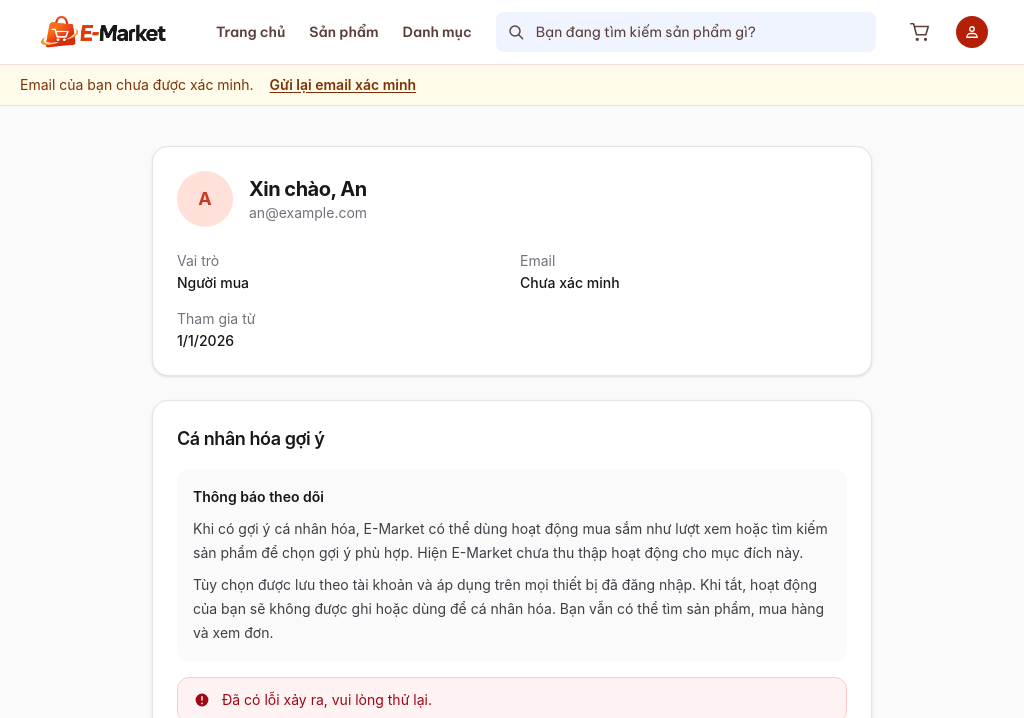
Test: Xác minh email › biểu ngữ nhắc xác minh và gửi lại email
Click the button "Gửi lại email xác minh" at [343, 85], box [270,75,416,95]
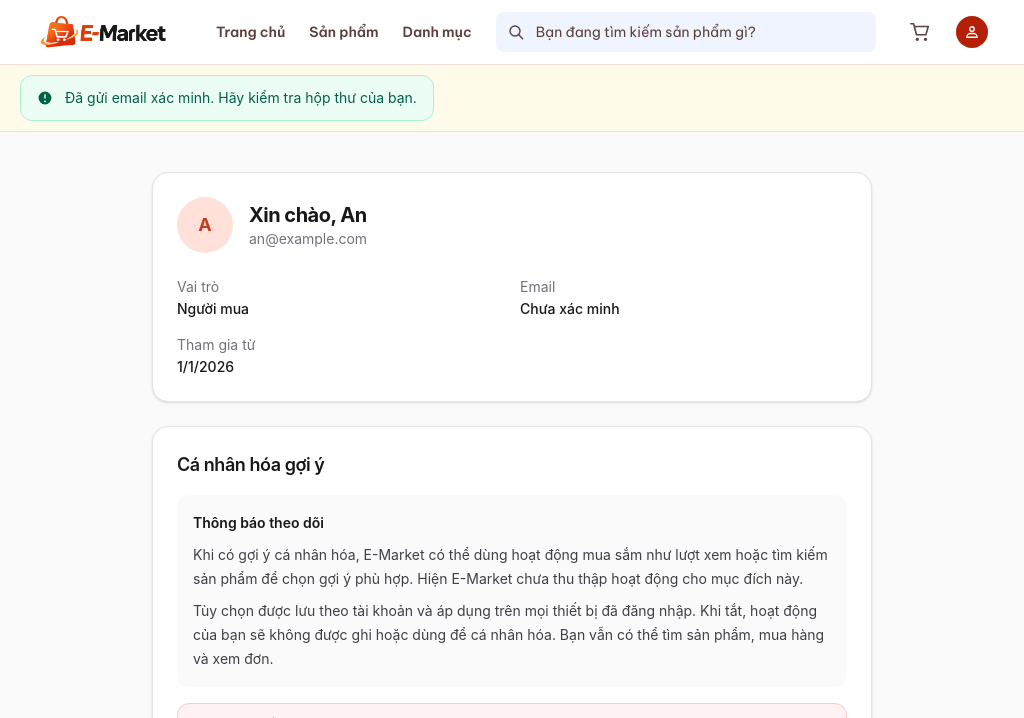
Now the text "Đã gửi email xác minh. Hãy kiểm tra hộp thư của bạn." is shown, box [65,88,417,108]
